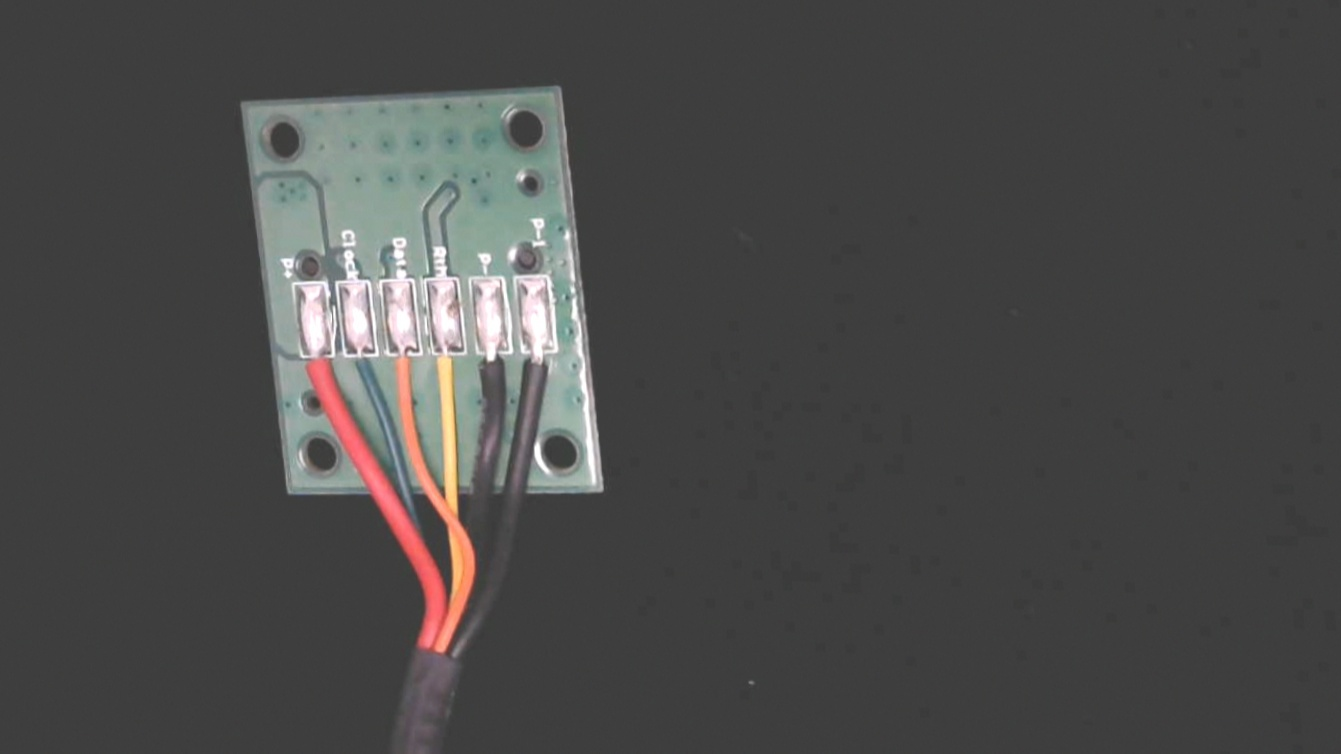Black: (474, 337, 515, 418)
Black1: (519, 336, 561, 413)
Green: (341, 337, 382, 405)
Orange: (385, 339, 422, 395)
Red: (300, 343, 339, 414)
Yellow: (424, 336, 470, 411)
